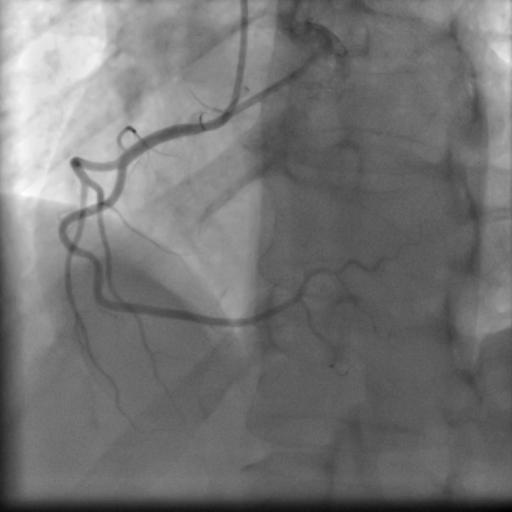Stenosis: (76, 247, 101, 283)
